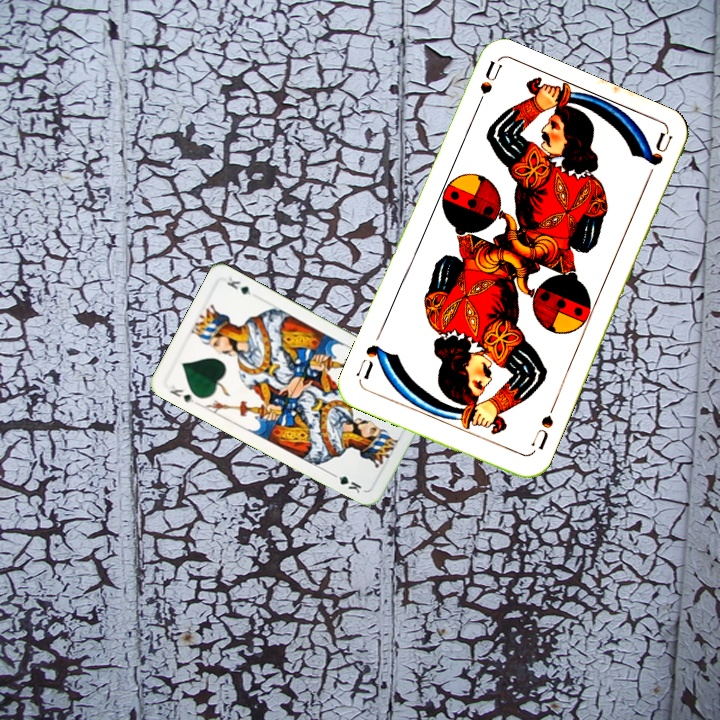GK: (165, 381, 200, 407)
SU: (470, 58, 504, 116), (526, 400, 558, 457)
